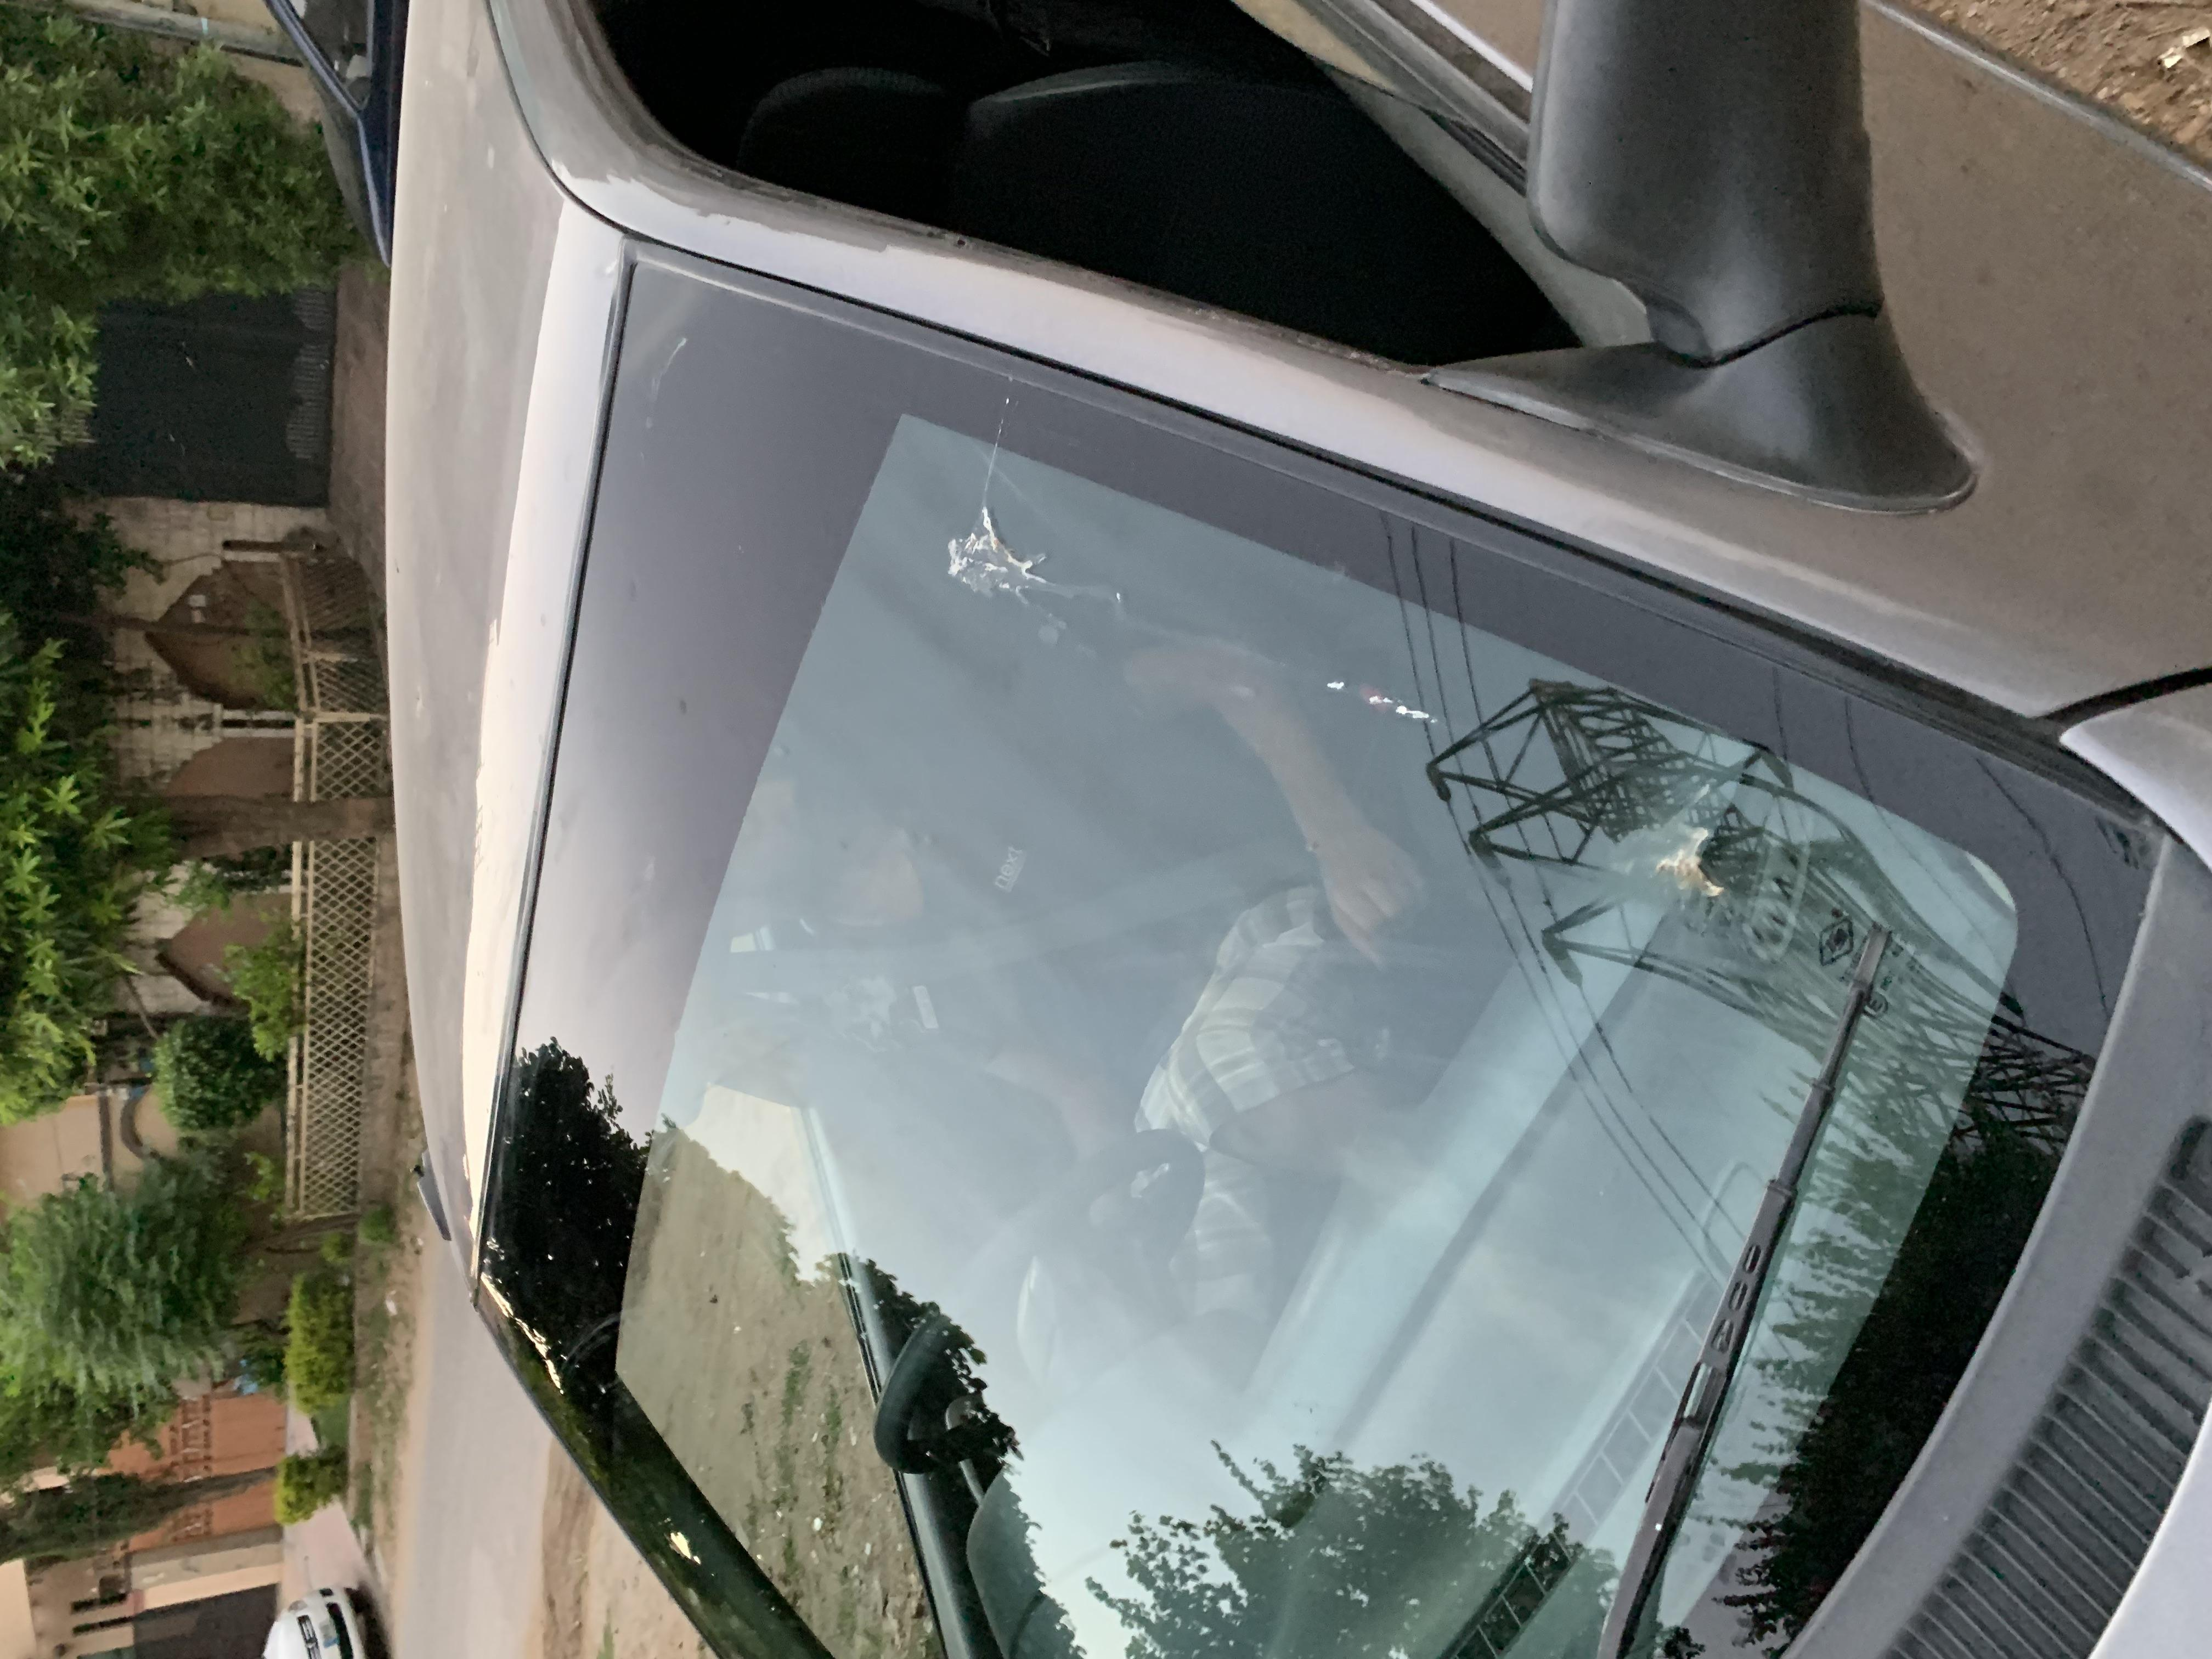windshield: (0, 342, 1926, 1633)
